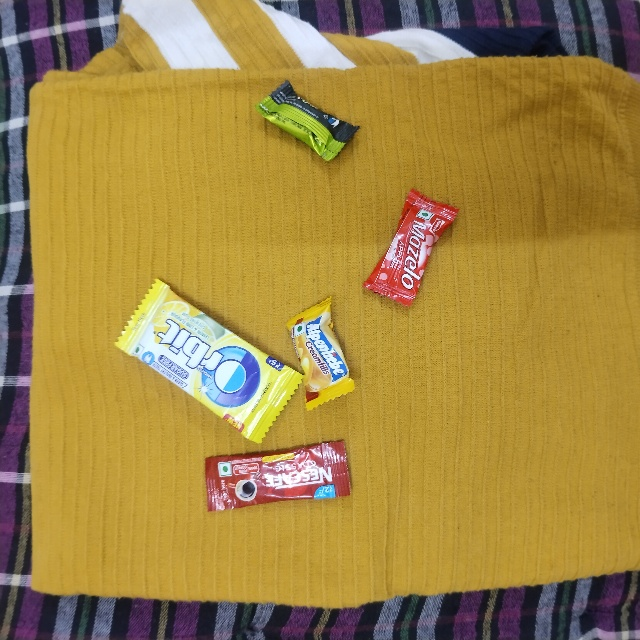Alpenlibe Creamfills: (278, 319, 334, 410)
Mazelo: (417, 184, 468, 298)
Nescafe Coffee: (203, 456, 349, 515)
Orbit: (159, 282, 337, 363)
Pulse: (275, 73, 377, 123)
